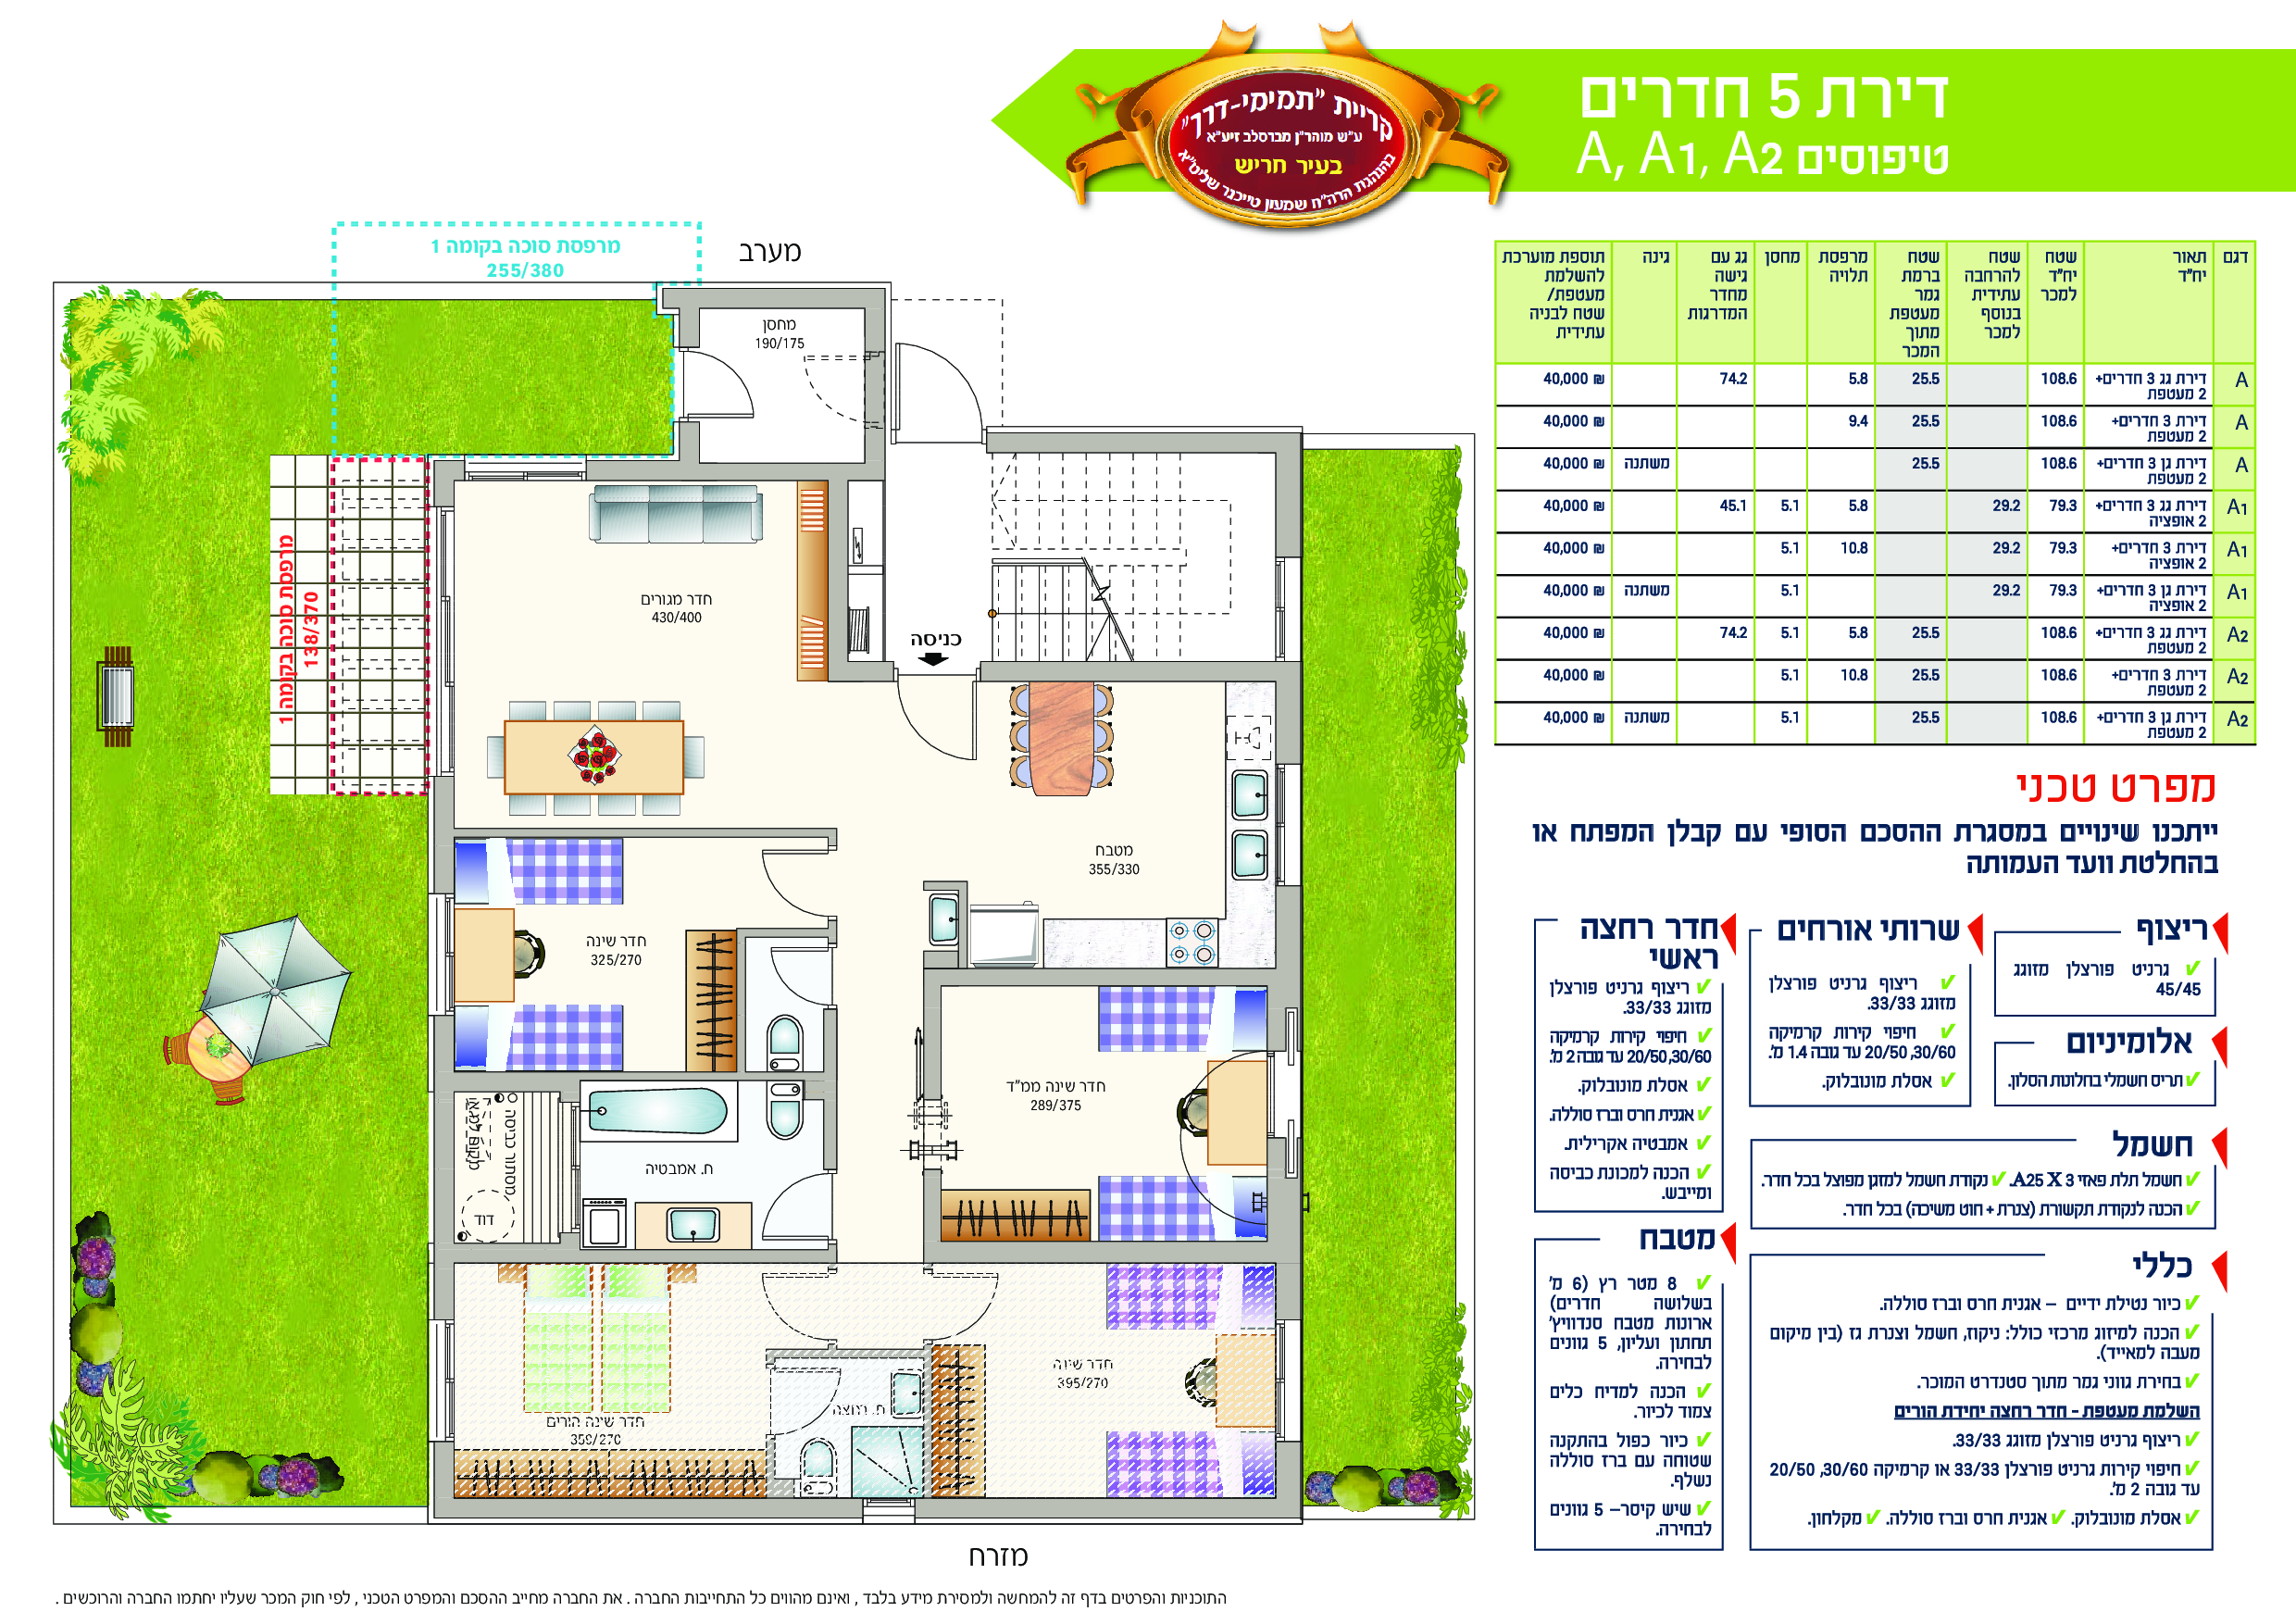door: (889, 689, 994, 772), (894, 330, 987, 422), (940, 1264, 1015, 1339), (757, 1264, 822, 1346), (701, 341, 764, 424), (757, 842, 820, 919), (757, 1169, 819, 1248), (757, 937, 820, 1007)
